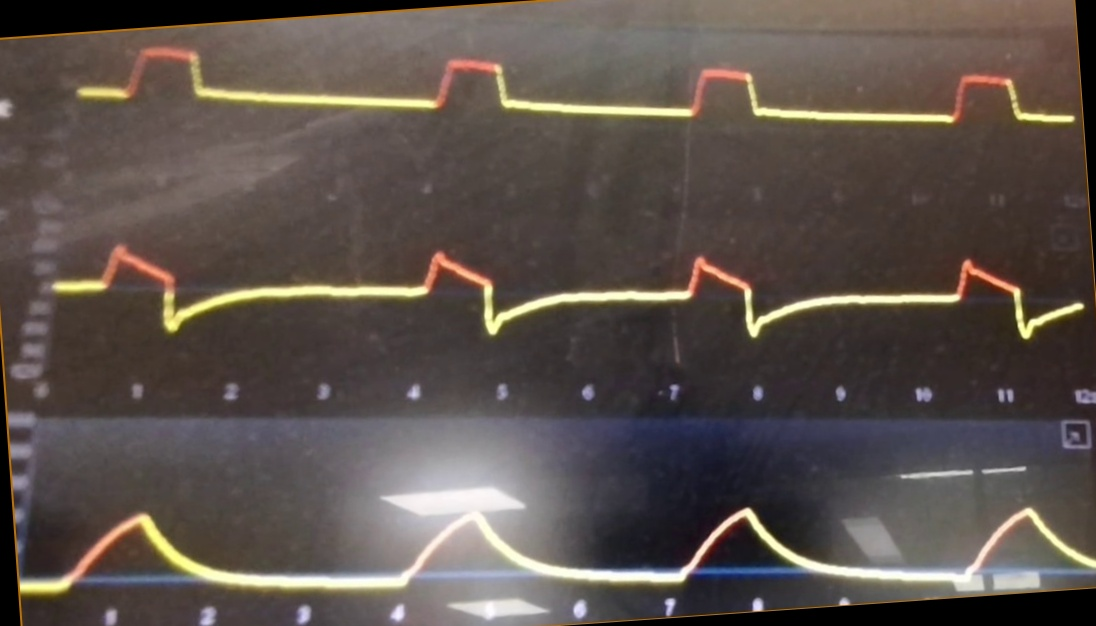Normal Flow: (55, 211, 1080, 369)
Normal Volume: (23, 470, 1096, 605)
